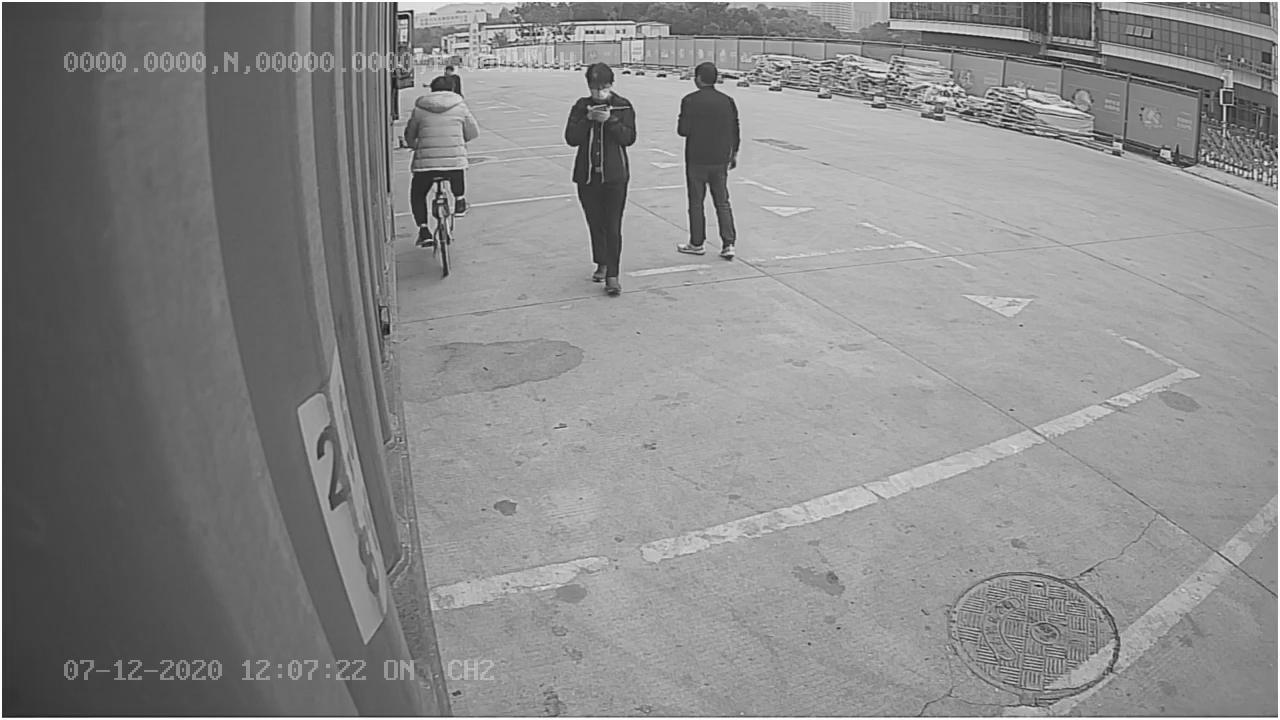person: (562, 56, 641, 298)
